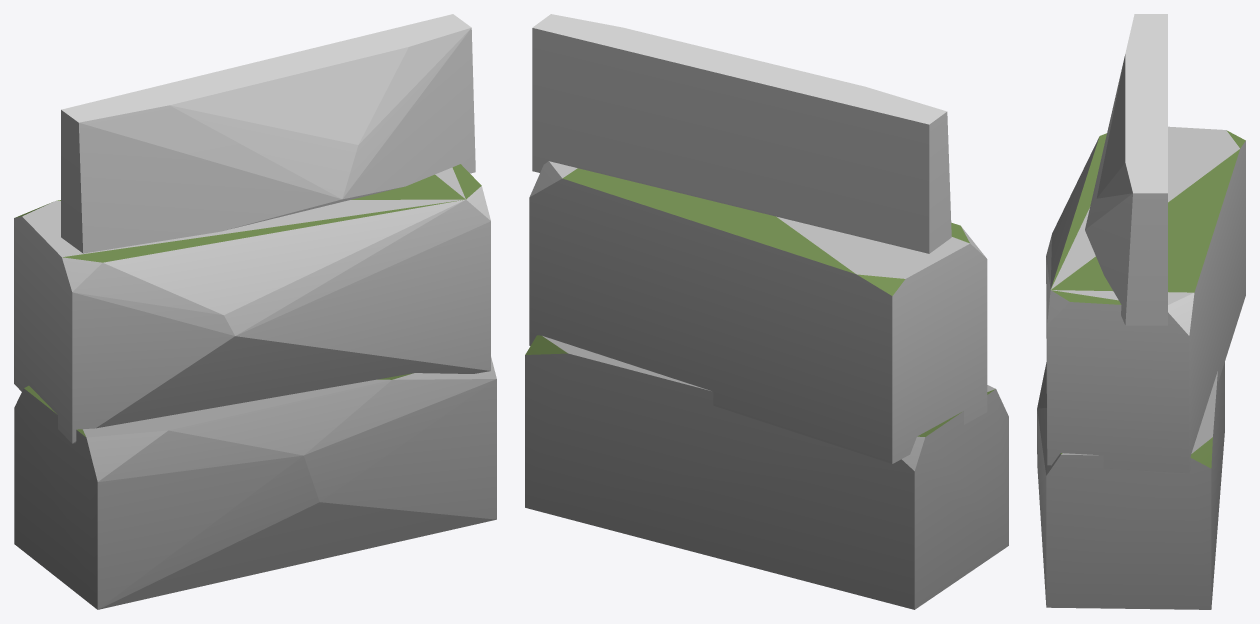
The picture shows the model from 3 angles, left to right: view 1: azimuth 30°, elevation 25°; view 2: azimuth 150°, elevation 25°; view 3: azimuth 270°, elevation 25°; orthographic projection. The views are drawn at different scales.
Visible parts, largest first — view 1: rk_ch2_1; view 2: rk_ch2_1; view 3: rk_ch2_1.
Boxes of the visible parts, <box> form: rk_ch2_1: <box>14,14,496,609</box>; rk_ch2_1: <box>525,14,1008,609</box>; rk_ch2_1: <box>1037,14,1245,609</box>.
Size of the model in its own units: 18.7 by 19.5 by 8.7.
